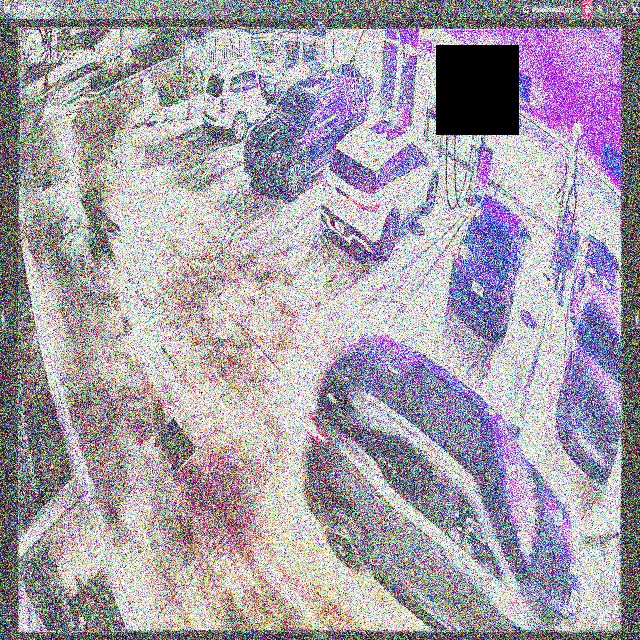Car: (302, 333, 573, 639), (318, 118, 440, 260), (243, 67, 365, 194), (450, 196, 529, 339), (203, 65, 297, 136)
